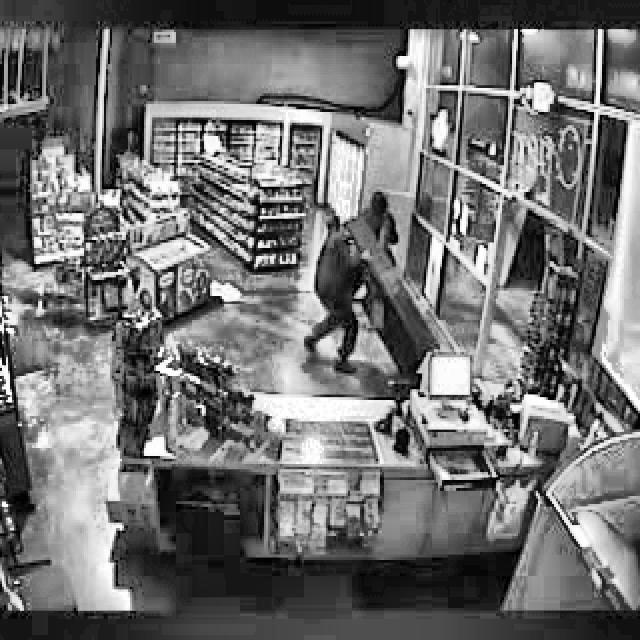burglary: (300, 185, 404, 379)
